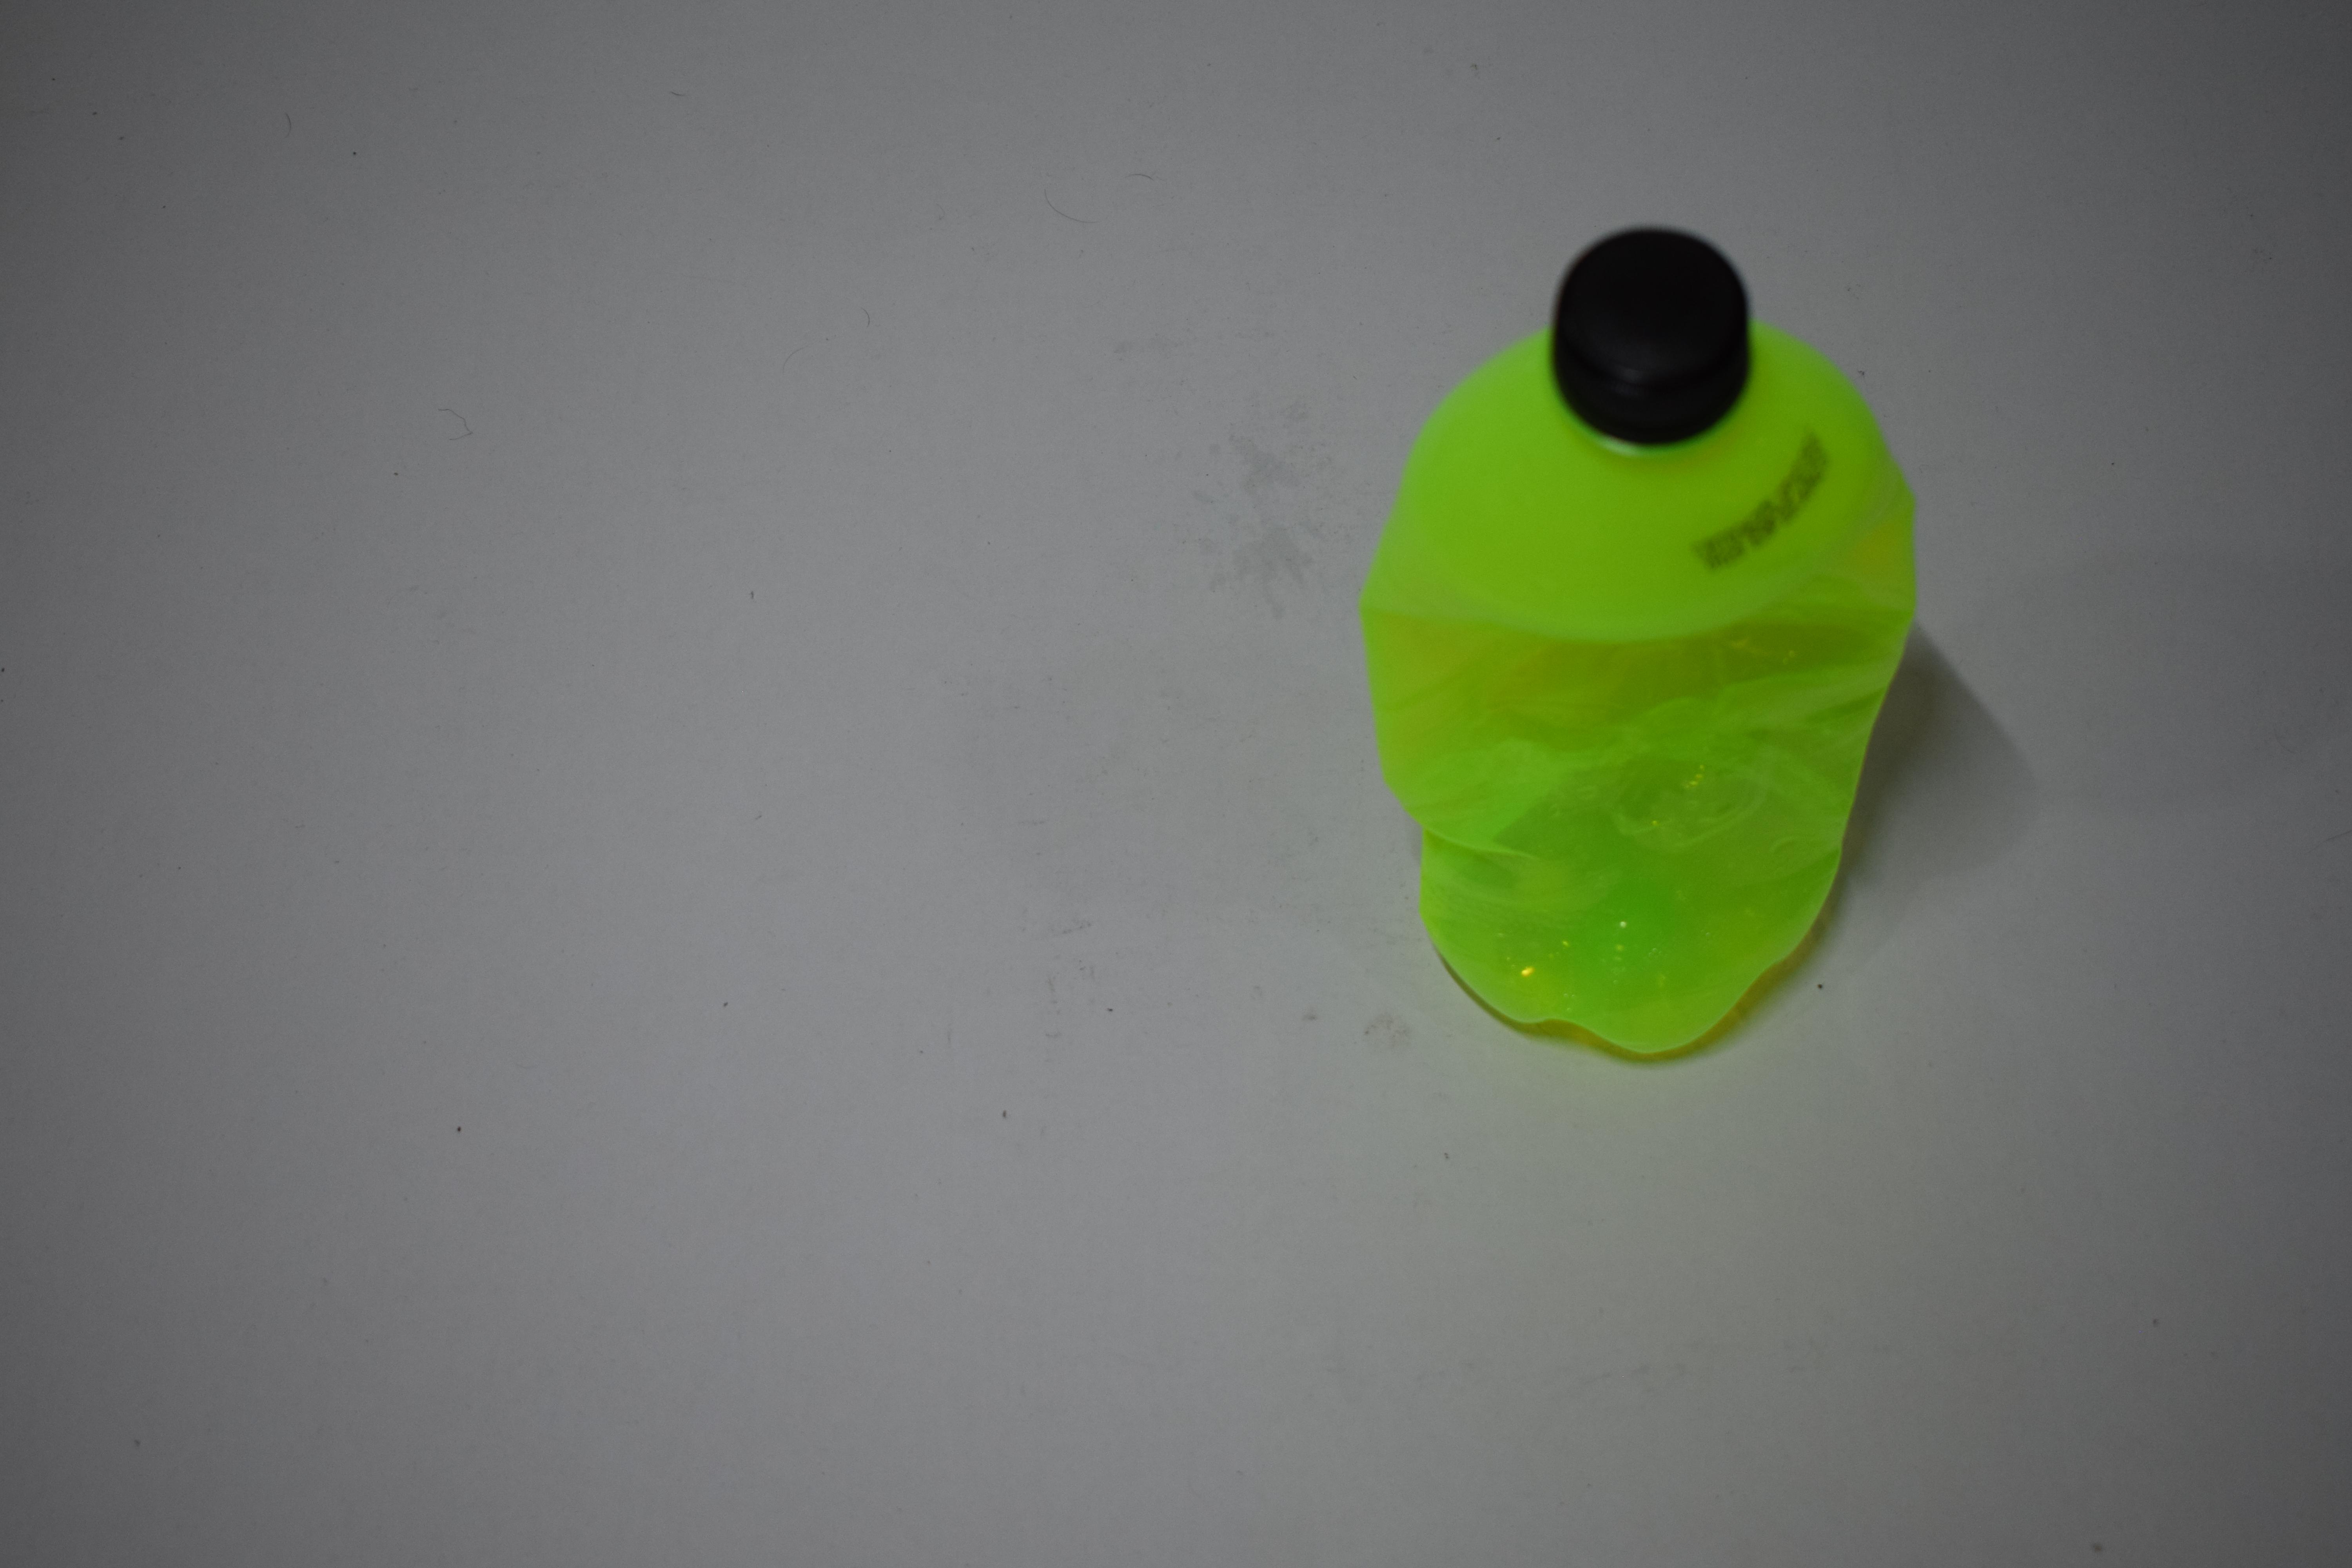bottle: (1356, 612, 1922, 677)
